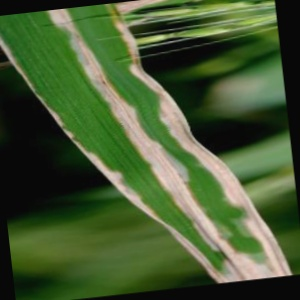Leaf_Blast: (46, 0, 169, 225)
